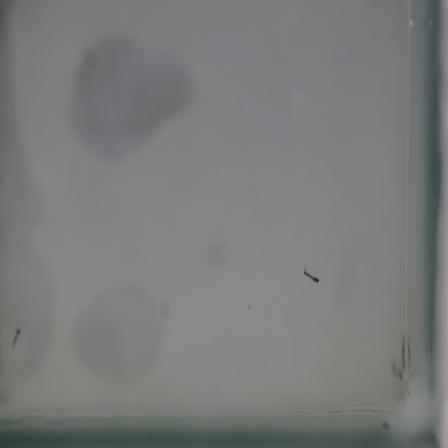Jentik-Nyamuk: (299, 264, 325, 288)
